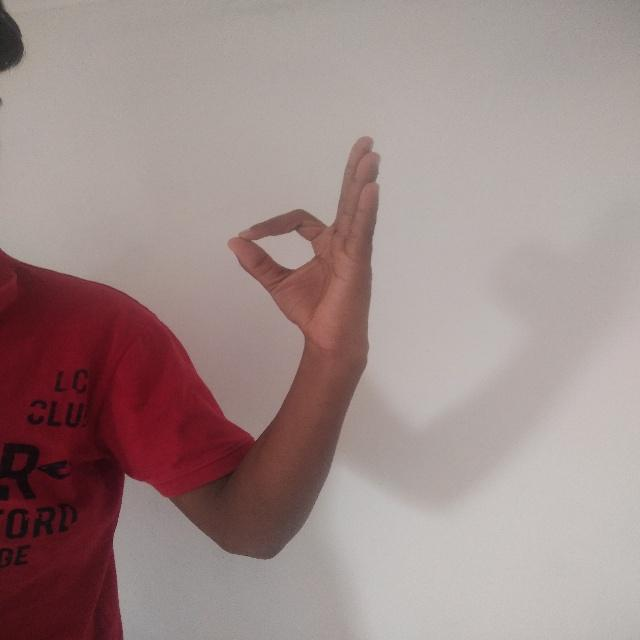Okay: (225, 129, 390, 367)
